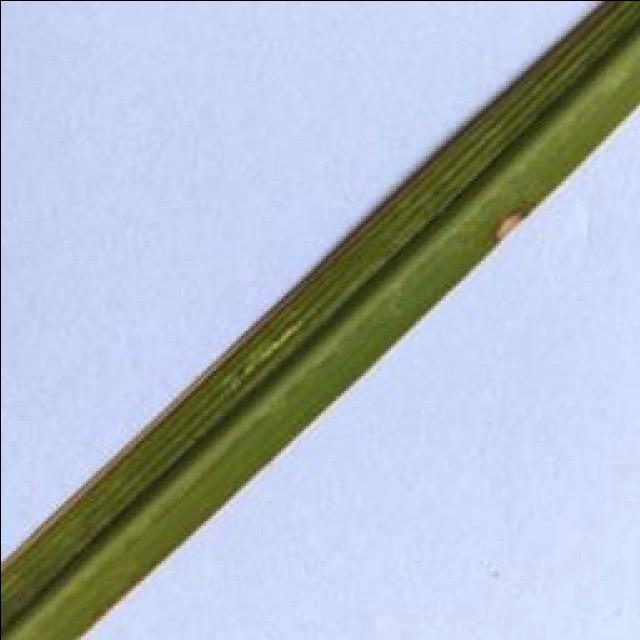Unhealthy: (490, 207, 526, 243)
